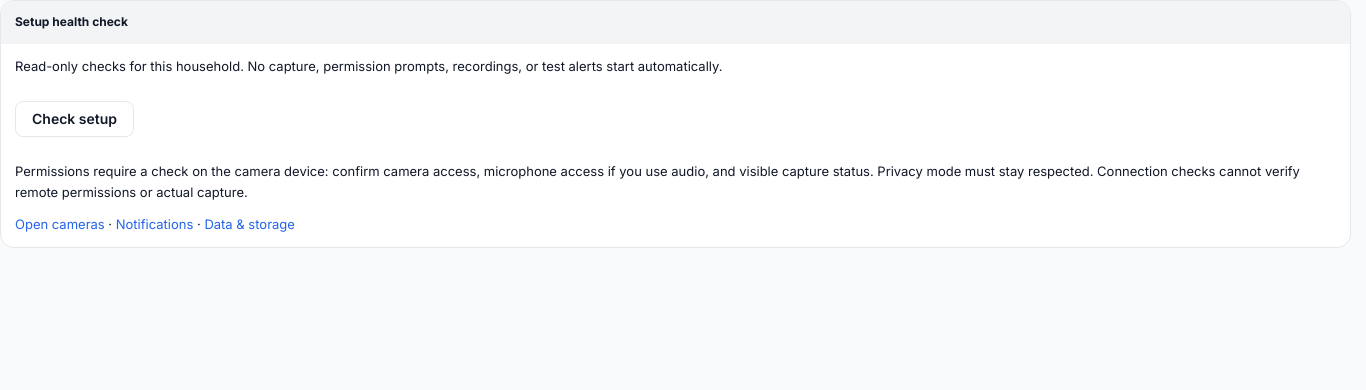
Test: keeps a failed recording check unknown while reporting available connections, without starting capture
Click the button "Check setup". click: click(74, 119)
box: x1=15 y1=101 x2=134 y2=137
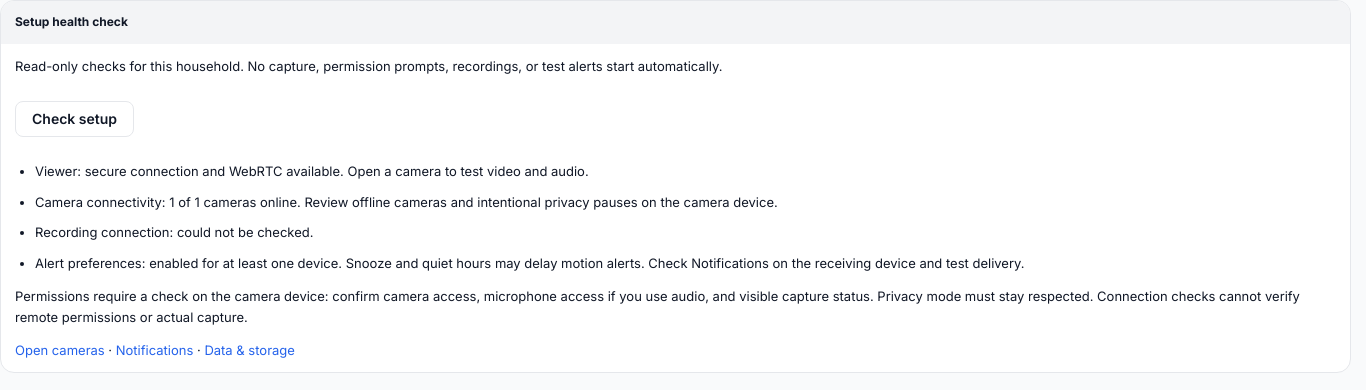
Now the list item "Recording connection: could not be checked." is shown, box x1=35 y1=224 x2=314 y2=240
Now the list item "1 of 1 cameras online" is shown, box x1=35 y1=194 x2=778 y2=210
